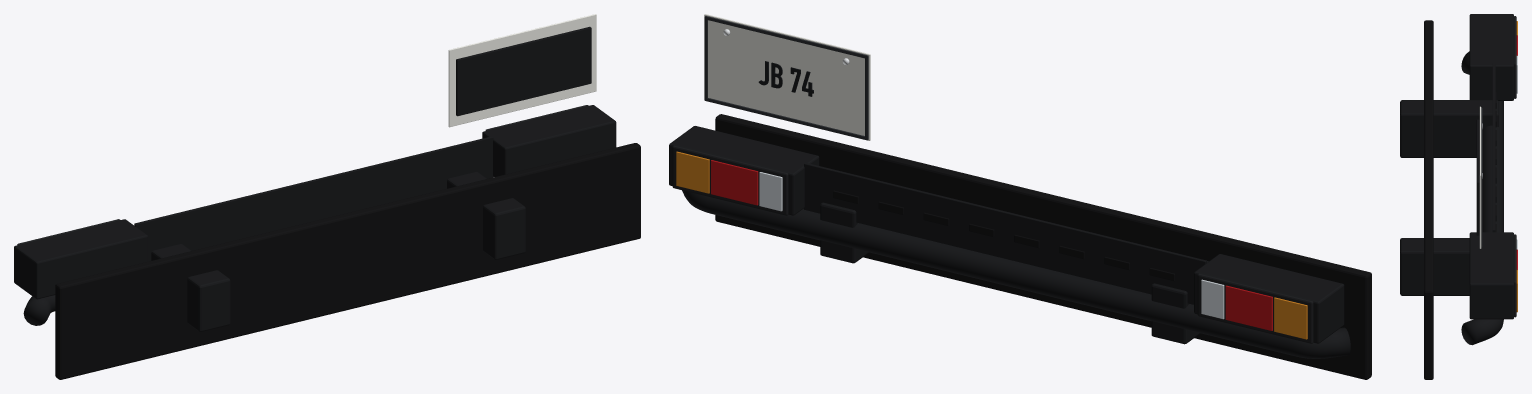
Rendered from rearBumper_taniguchi_rear_pipe.glb.
3 views of the same model, side by side, from view 1: azimuth 30°, elevation 25°; view 2: azimuth 150°, elevation 25°; view 3: azimuth 270°, elevation 25° (orthographic). The views are drawn at different scales.
Visible parts, largest first — view 1: valance.031, panel.011, plateBracket.003, lampFrame-1, lampFrame1, plate.038, mount-1.031, mount1.031, bar.009; view 2: valance.031, panel.011, bar.009, plate.038, lampFrame-1, lampFrame1, lampSeg-11.005, lampSeg11.005, lampBezel1.003, lampBezel-1.003, mount-1.031, mount1.031 (+7 smaller); view 3: mount-1.031, lampFrame1, lampFrame-1, valance.031, mount1.031, bar.009, panel.011, plateBracket.003, plate.038, lampBezel1.003, lampBezel-1.003, plateRim36_3 (+1 smaller).
Part boxes in pixels (left/top/right/bottom): valance.031: left=55, top=143, right=640, bottom=379; panel.011: left=134, top=136, right=493, bottom=261; plateBracket.003: left=456, top=26, right=591, bottom=116; lampFrame-1: left=14, top=219, right=147, bottom=299; lampFrame1: left=482, top=105, right=616, bottom=176; plate.038: left=448, top=14, right=596, bottom=127; mount-1.031: left=151, top=244, right=230, bottom=331; mount1.031: left=447, top=172, right=525, bottom=259; bar.009: left=23, top=295, right=55, bottom=325; valance.031: left=715, top=114, right=1371, bottom=379; panel.011: left=804, top=162, right=1206, bottom=304; bar.009: left=682, top=190, right=1350, bottom=358; plate.038: left=704, top=14, right=870, bottom=140; lampFrame-1: left=1194, top=254, right=1344, bottom=343; lampFrame1: left=669, top=126, right=819, bottom=215; lampSeg-11.005: left=1225, top=285, right=1272, bottom=330; lampSeg11.005: left=711, top=160, right=758, bottom=205; lampBezel1.003: left=672, top=145, right=788, bottom=215; lampBezel-1.003: left=1197, top=273, right=1313, bottom=343; mount-1.031: left=1151, top=261, right=1208, bottom=344; mount1.031: left=820, top=202, right=868, bottom=263; mount-1.031: left=1400, top=100, right=1498, bottom=157; lampFrame1: left=1469, top=232, right=1513, bottom=319; lampFrame-1: left=1469, top=14, right=1513, bottom=100; valance.031: left=1424, top=20, right=1433, bottom=379; mount1.031: left=1400, top=238, right=1469, bottom=295; bar.009: left=1461, top=51, right=1503, bottom=345; panel.011: left=1492, top=63, right=1495, bottom=232; plateBracket.003: left=1476, top=119, right=1479, bottom=235; plate.038: left=1479, top=106, right=1481, bottom=248; lampBezel1.003: left=1514, top=234, right=1516, bottom=317; lampBezel-1.003: left=1514, top=16, right=1516, bottom=98; plateRim36_3: left=1481, top=176, right=1482, bottom=247.
Size of the model in its own units: 1.34 by 0.4425 by 0.2382.
